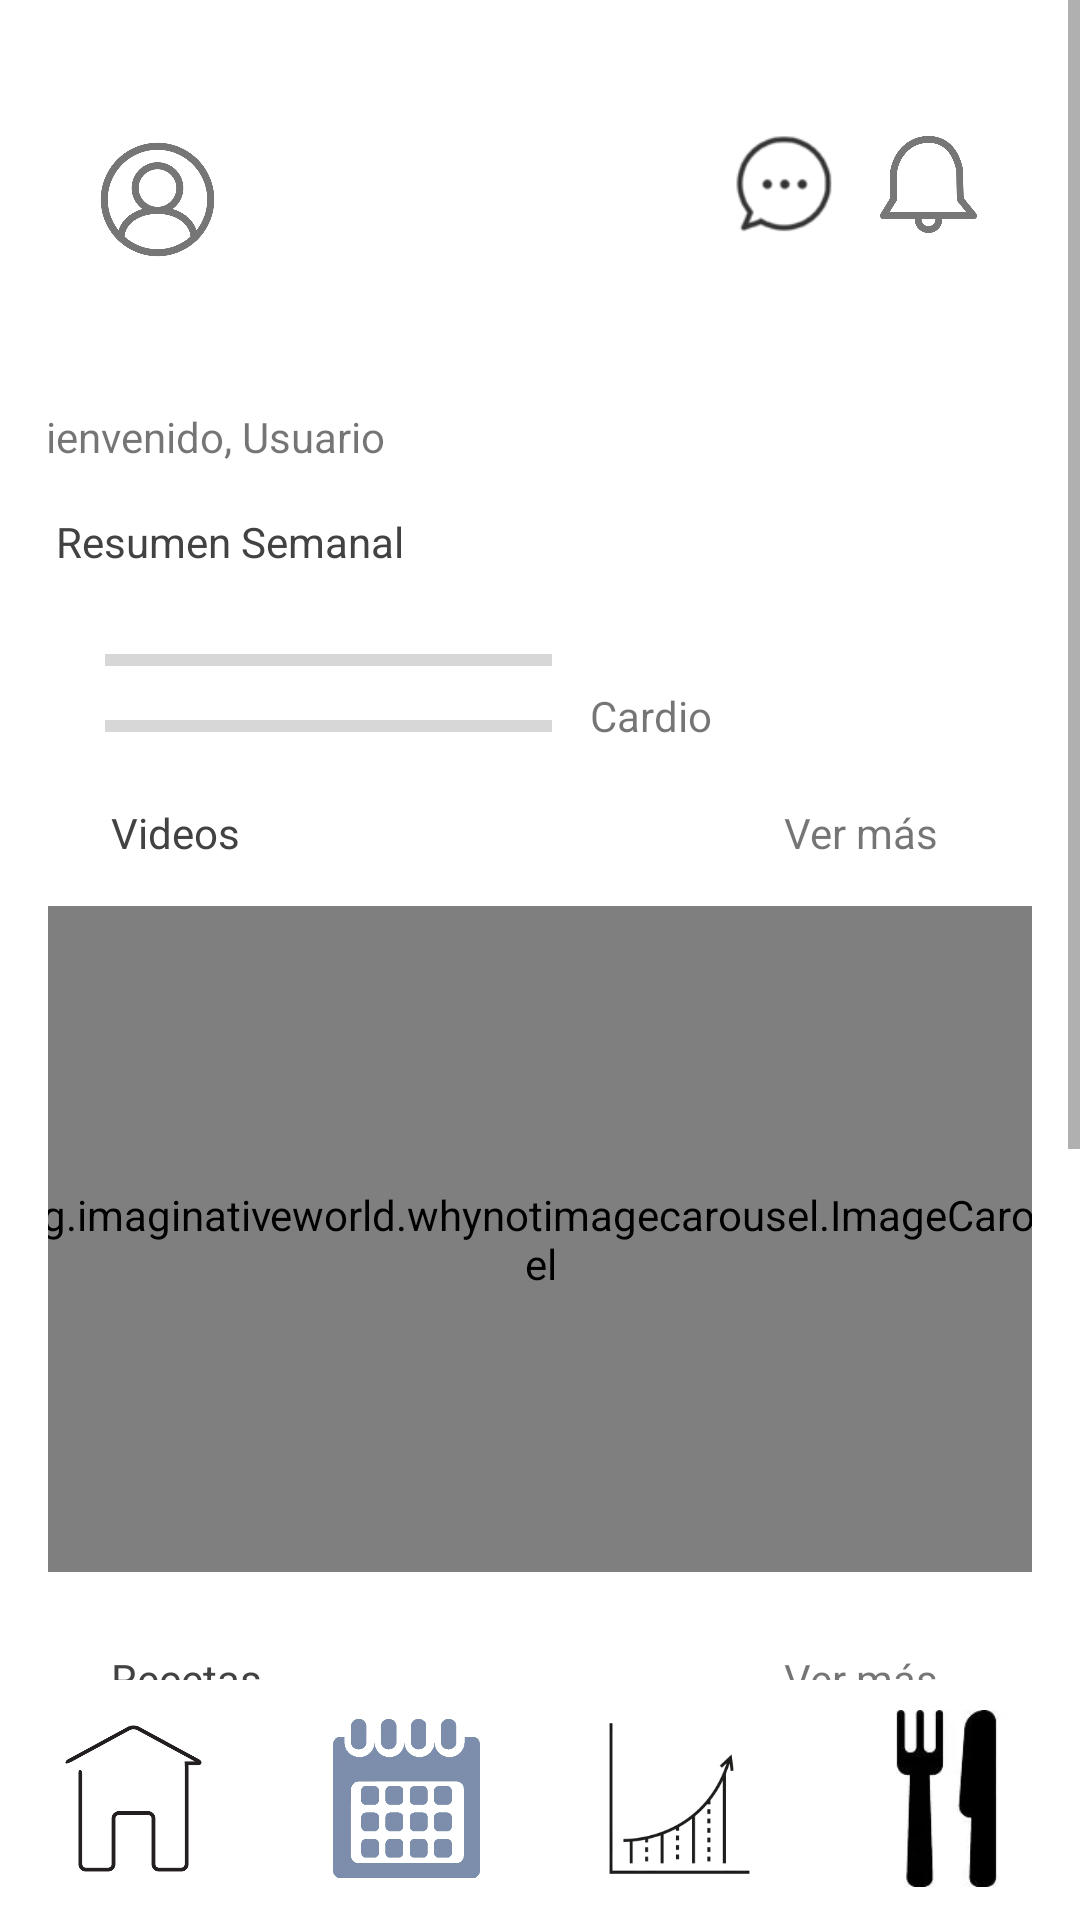

Icon bounding boxes for this 1080 x 1920 phone screenshot, format Rect(x1, y1, x2, y2):
iconocampana: Rect(880, 136, 977, 233)
iconochat: Rect(736, 136, 832, 231)
iconousuario: Rect(101, 143, 214, 256)
